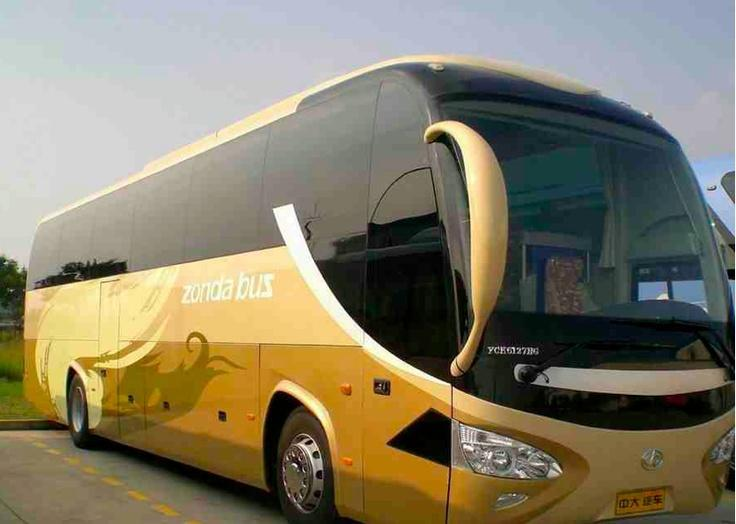Bus: (23, 54, 735, 523)
